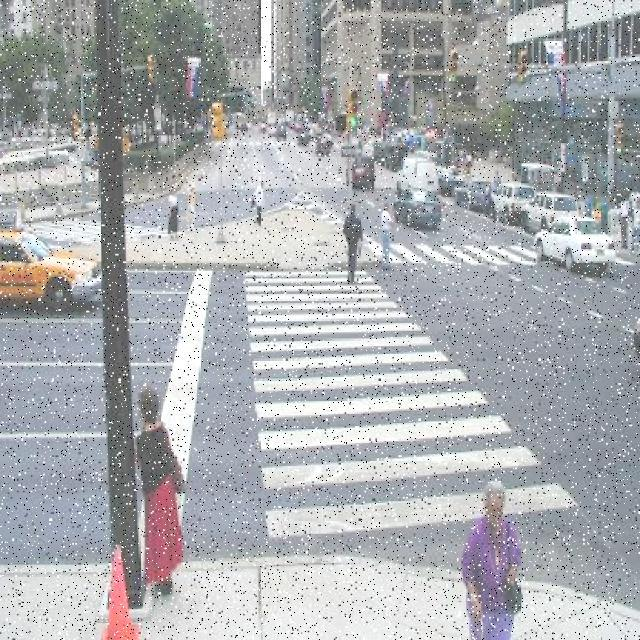crosswalk: (226, 249, 597, 569), (362, 231, 596, 287), (206, 137, 314, 157)
